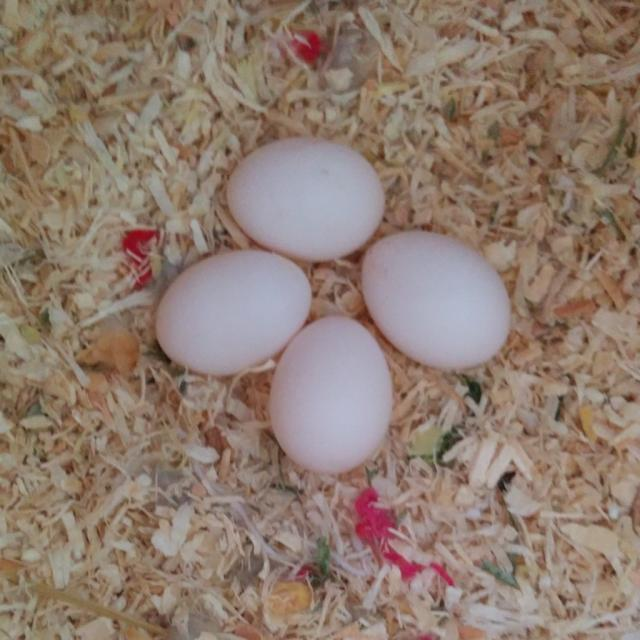Egg: (156, 135, 515, 473), (358, 232, 514, 372), (226, 133, 392, 262), (267, 314, 394, 472), (152, 252, 313, 372)
